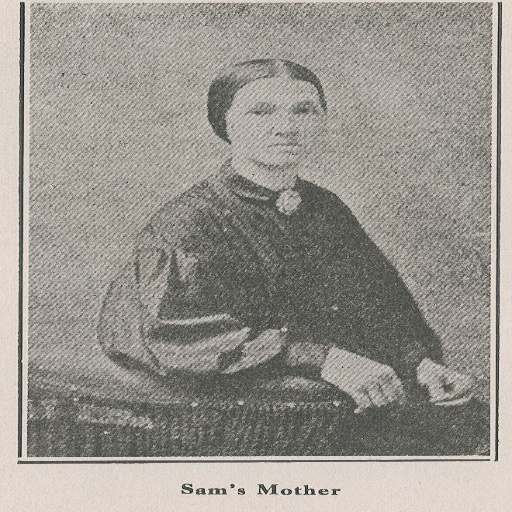hand: (321, 346, 407, 418), (424, 358, 480, 415)
